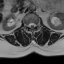CCS_normal: (31, 20, 33, 30)
LFS_normal: (35, 21, 38, 28)
LLS_normal: (33, 20, 35, 29)
RFS_normal: (26, 21, 28, 28)
RLS_normal: (28, 21, 31, 29)
